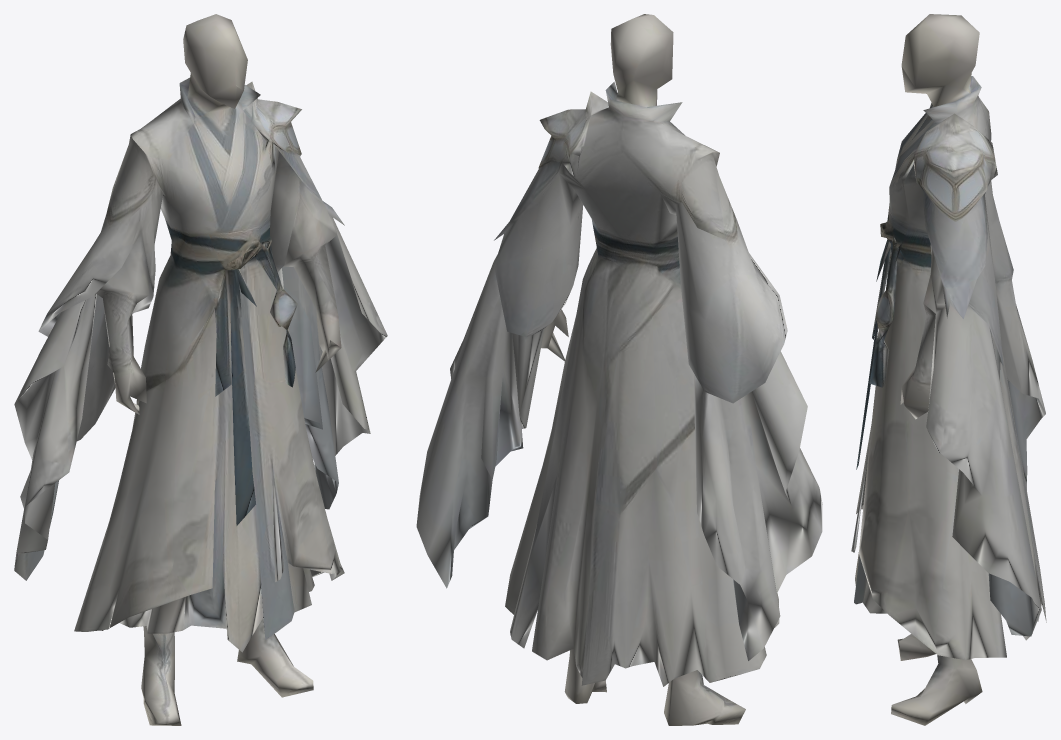
The model's file is set_kinh_quang_kiem_y.ba6d2643bf.glb.
The picture shows the model from 3 angles, left to right: view 1: azimuth 30°, elevation 25°; view 2: azimuth 150°, elevation 25°; view 3: azimuth 270°, elevation 25°; orthographic projection. The views are drawn at different scales.
Visible parts, largest first — view 1: set_kinh_quang_kiem_y; view 2: set_kinh_quang_kiem_y; view 3: set_kinh_quang_kiem_y.
Boxes of the visible parts, box(x1,y1,x2,y2) form: set_kinh_quang_kiem_y: box(14, 14, 387, 725); set_kinh_quang_kiem_y: box(416, 14, 822, 725); set_kinh_quang_kiem_y: box(851, 14, 1046, 725).
Size of what is drawn, in the model's own units: 0.9813 by 1.75 by 0.4604.
1 material, 1 textured.
